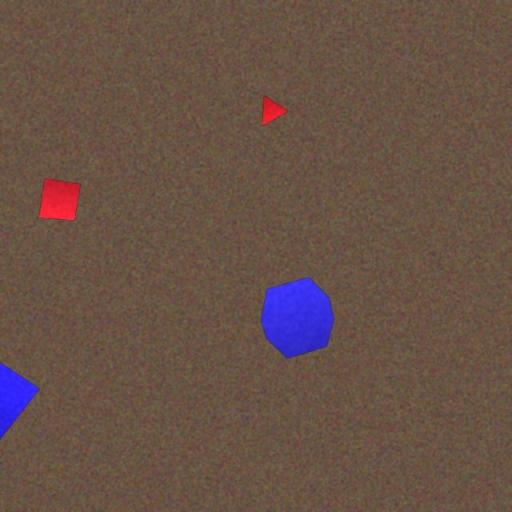BLUE_SQUARE: (0, 343, 41, 447)
RED_SQUARE: (38, 178, 82, 222)
